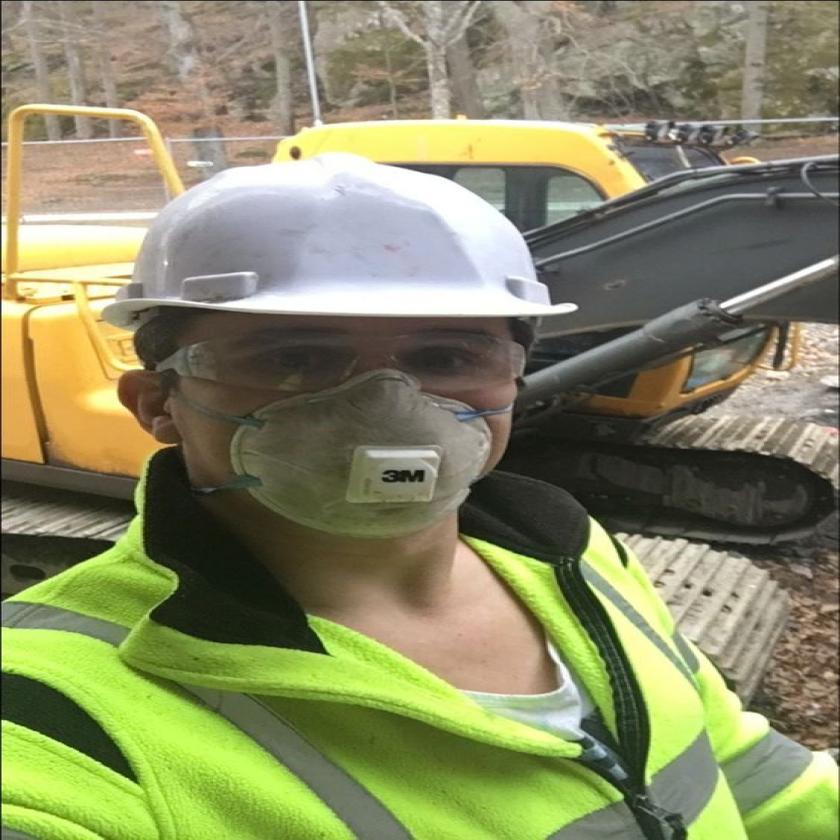Con_casco: (102, 145, 588, 567)
